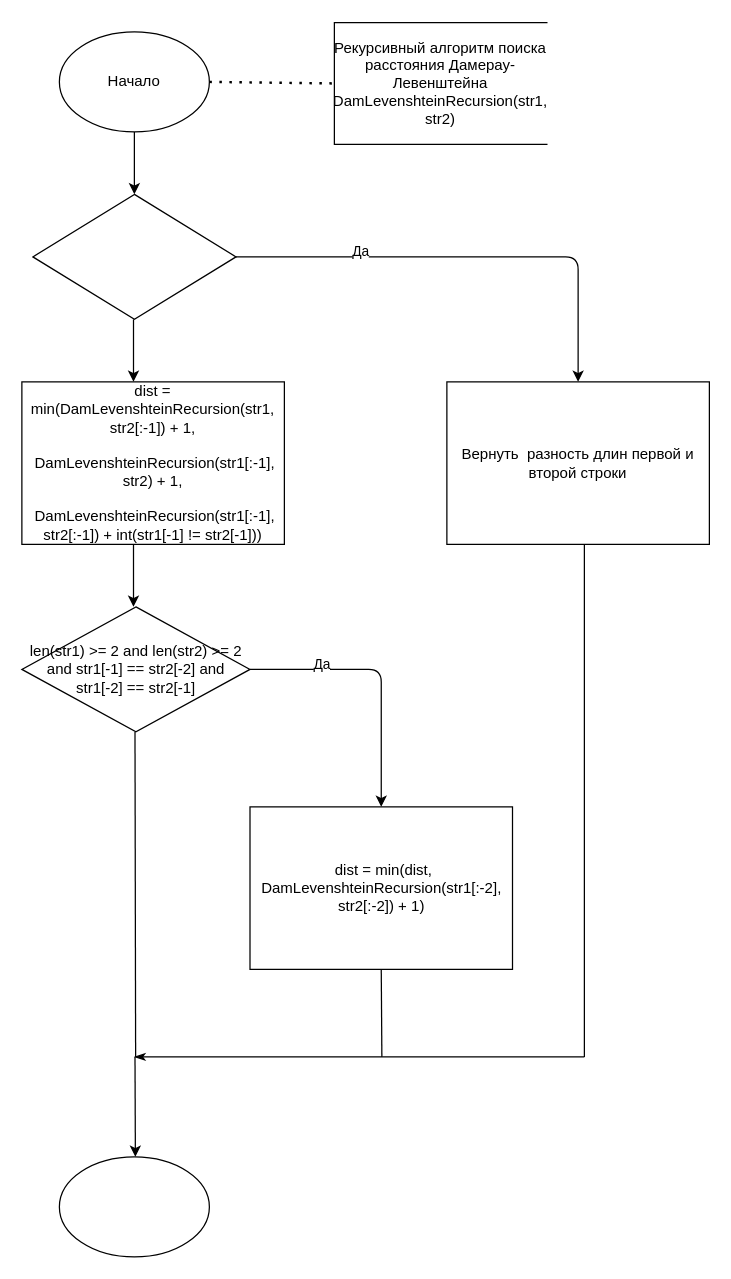
Image size: 731x1279. Some labels were removed from this diagram. The shapes that lost their labels are listed below. From the top down, each one's centre as x and y in pixels, then its label:
pixel 134 256: первая строка пустая или вторая строка пустая
pixel 133 1206: Конец
